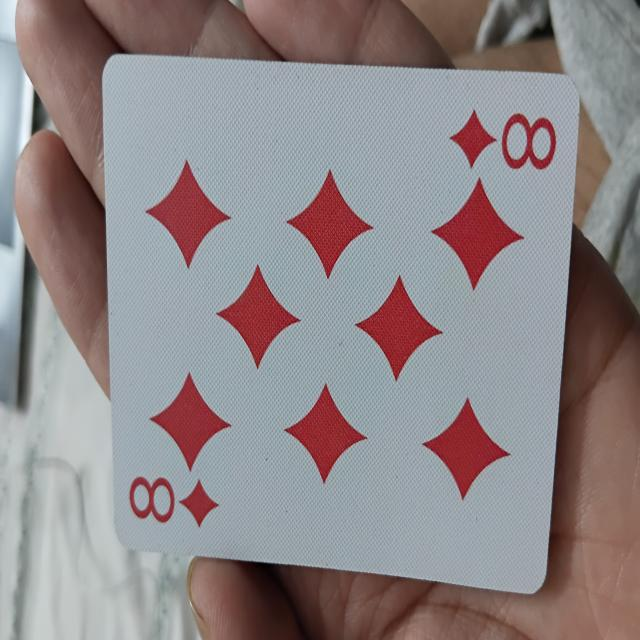8D: (100, 53, 564, 591)
